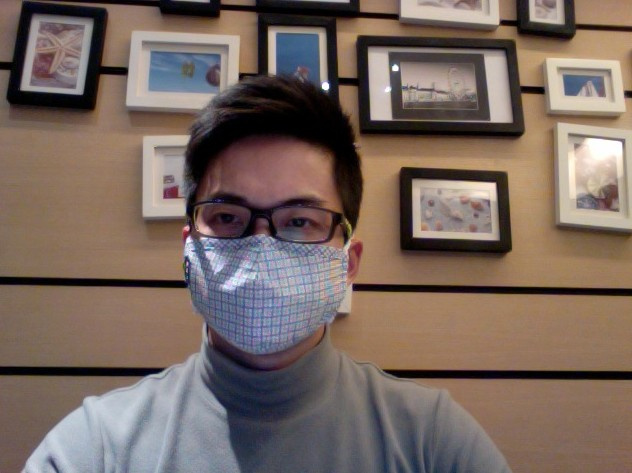face_mask: (185, 139, 346, 344)
